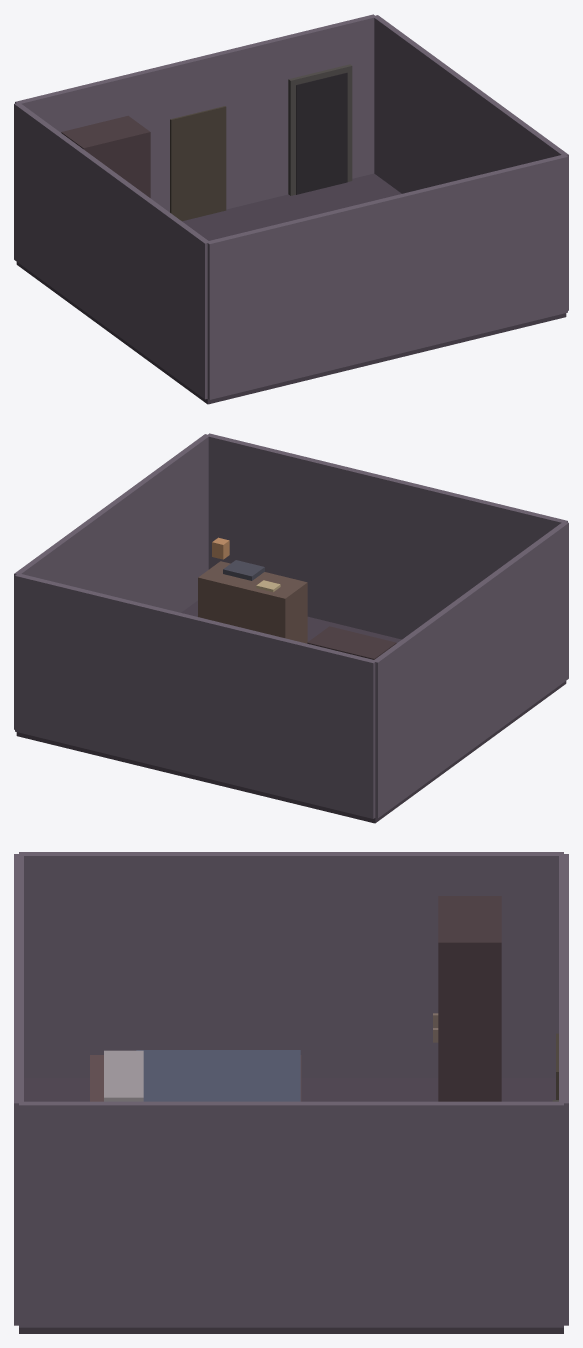
File: cuartoDars.obj
3 views of the same model, one above another, from view 1: azimuth 30°, elevation 25°; view 2: azimuth 150°, elevation 25°; view 3: azimuth 270°, elevation 25° (orthographic). The views are drawn at different scales.
Visible parts, largest first — view 1: cuartoDars_c2_12, cuartoDars_c2_10, cuartoDars_c2_13, cuartoDars_c2_11, cuartoDars_c2_9, cuartoDars_c2_14, cuartoDars_c2_26, cuartoDars_c2_22, cuartoDars_c2_25; view 2: cuartoDars_c2_13, cuartoDars_c2_12, cuartoDars_c2_10, cuartoDars_c2_11, cuartoDars_c2_18, cuartoDars_c2_9, cuartoDars_c2_22, cuartoDars_c2_19; view 3: cuartoDars_c2_11, cuartoDars_c2_10, cuartoDars_c2_22, cuartoDars_c2_9, cuartoDars_c2_16, cuartoDars_c2_13, cuartoDars_c2_12, cuartoDars_c2_17, cuartoDars_c2_15.
Part boxes in pixels (bbox=[...]): cuartoDars_c2_12: bbox=[206, 155, 567, 399]; cuartoDars_c2_10: bbox=[14, 102, 208, 399]; cuartoDars_c2_13: bbox=[15, 14, 374, 212]; cuartoDars_c2_11: bbox=[373, 15, 568, 310]; cuartoDars_c2_9: bbox=[16, 173, 566, 404]; cuartoDars_c2_14: bbox=[170, 106, 226, 221]; cuartoDars_c2_26: bbox=[296, 72, 347, 194]; cuartoDars_c2_22: bbox=[61, 115, 150, 197]; cuartoDars_c2_25: bbox=[288, 64, 352, 195]; cuartoDars_c2_13: bbox=[15, 574, 376, 818]; cuartoDars_c2_12: bbox=[208, 433, 567, 639]; cuartoDars_c2_10: bbox=[373, 521, 568, 818]; cuartoDars_c2_11: bbox=[14, 434, 209, 729]; cuartoDars_c2_18: bbox=[198, 561, 307, 643]; cuartoDars_c2_9: bbox=[16, 600, 566, 823]; cuartoDars_c2_22: bbox=[307, 626, 396, 659]; cuartoDars_c2_19: bbox=[223, 560, 264, 580]; cuartoDars_c2_11: bbox=[19, 1101, 563, 1327]; cuartoDars_c2_10: bbox=[19, 852, 563, 1077]; cuartoDars_c2_22: bbox=[438, 896, 501, 1101]; cuartoDars_c2_9: bbox=[19, 1078, 563, 1333]; cuartoDars_c2_16: bbox=[136, 1050, 300, 1101]; cuartoDars_c2_13: bbox=[559, 854, 568, 1325]; cuartoDars_c2_12: bbox=[14, 854, 23, 1325]; cuartoDars_c2_17: bbox=[104, 1050, 143, 1101]; cuartoDars_c2_15: bbox=[90, 1055, 301, 1101].
Bounding box in the file's own units: 13.2 × 5.6 × 12.22.
